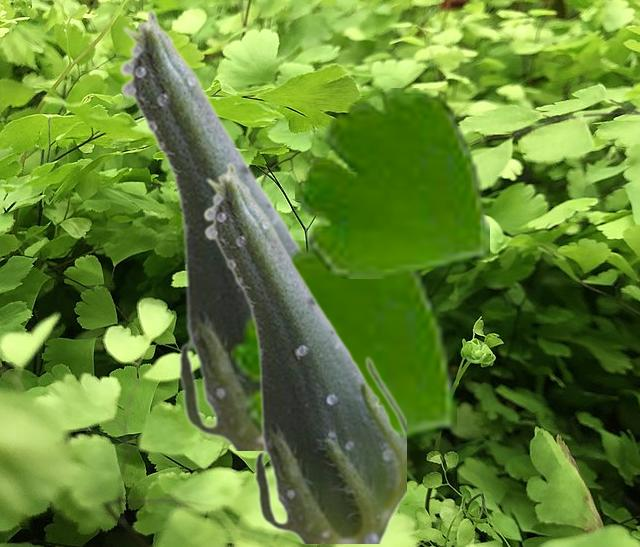okra: (118, 8, 305, 449), (202, 162, 405, 542)
